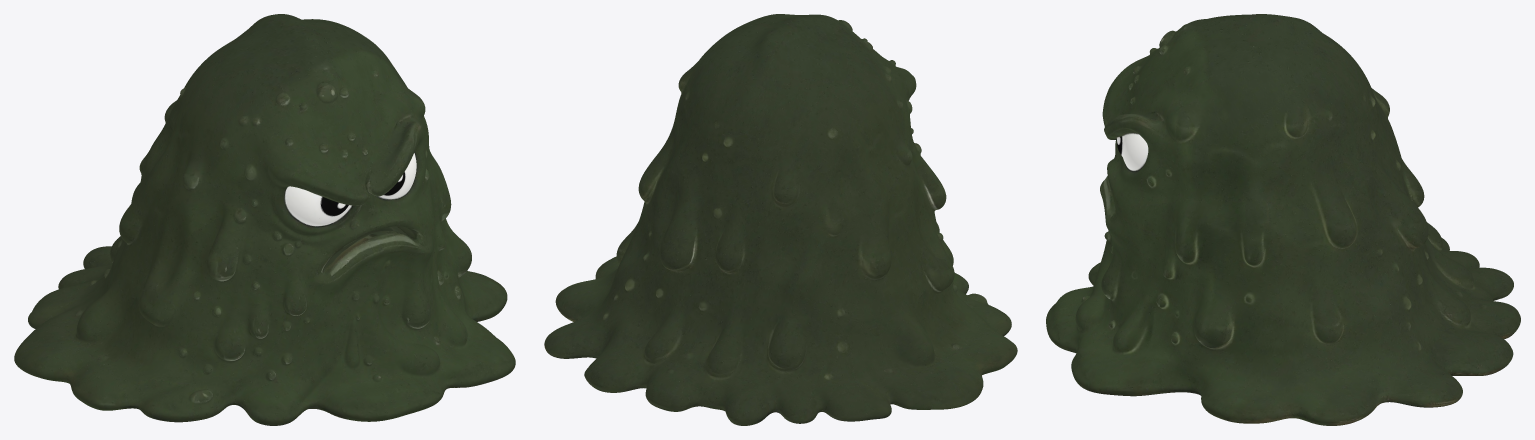
Rendered from grumpy_slime.glb.
3 renders of one model, left to right at view 1: azimuth 30°, elevation 25°; view 2: azimuth 150°, elevation 25°; view 3: azimuth 270°, elevation 25°, orthographic. The views are drawn at different scales.
Size of the model in its own units: 1.9 by 1.29 by 1.78.
Materials: 1 (1 with a texture image).
